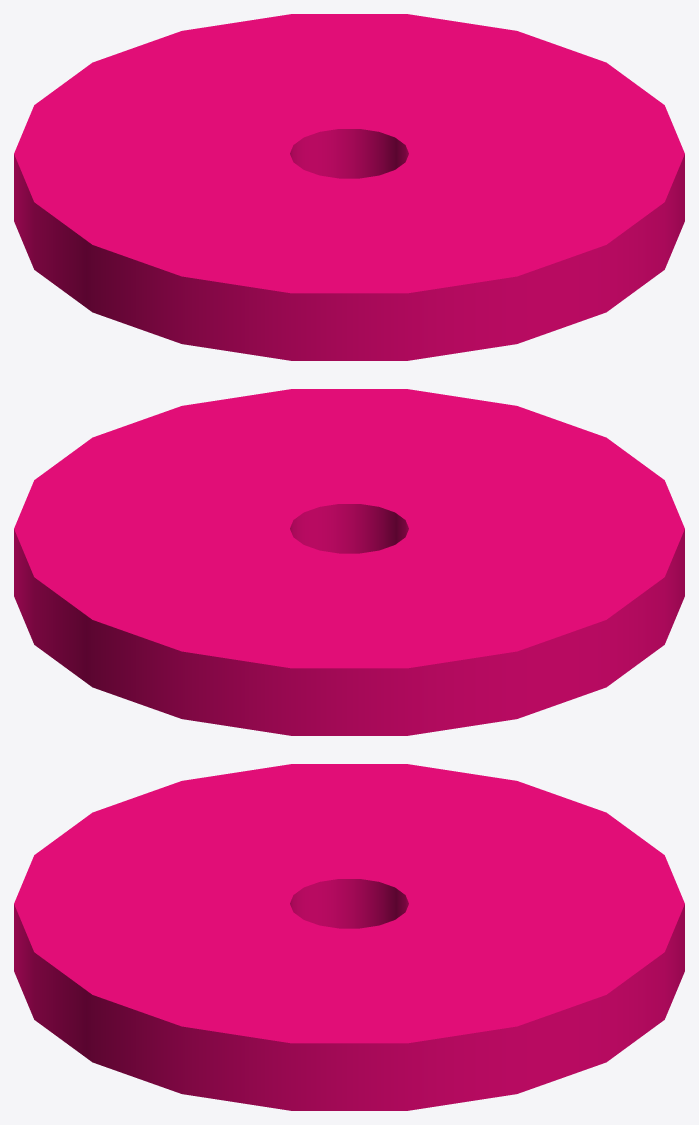
The model's file is Disco5.fbx.
The picture shows the model from 3 angles, top to bottom: view 1: azimuth 30°, elevation 25°; view 2: azimuth 150°, elevation 25°; view 3: azimuth 270°, elevation 25°; orthographic projection.
Parts seen in each view (by area): view 1: Disc005; view 2: Disc005; view 3: Disc005.
Part boxes in pixels (left/top/right/bottom): Disc005: left=14, top=14, right=684, bottom=360; Disc005: left=14, top=389, right=684, bottom=735; Disc005: left=14, top=764, right=684, bottom=1110.
Bounding box in the file's own units: 88.63 × 10 × 90.
